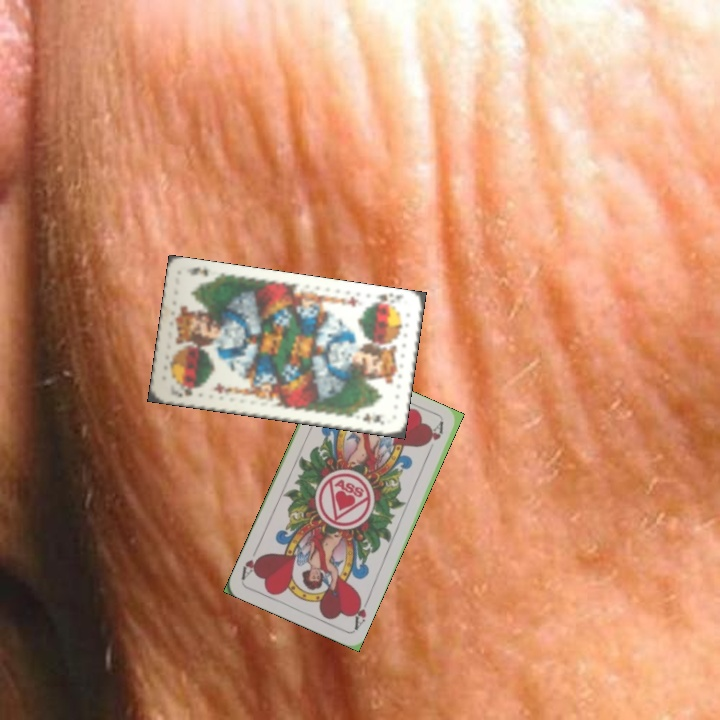HA: (348, 593, 372, 633)
SK: (368, 289, 395, 308), (175, 382, 202, 400)
